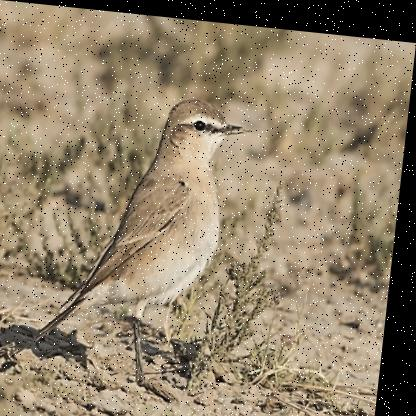Burung: (41, 71, 258, 391)
